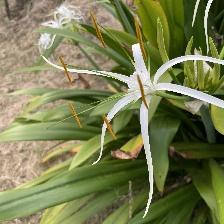spider lily: (40, 45, 224, 218)
